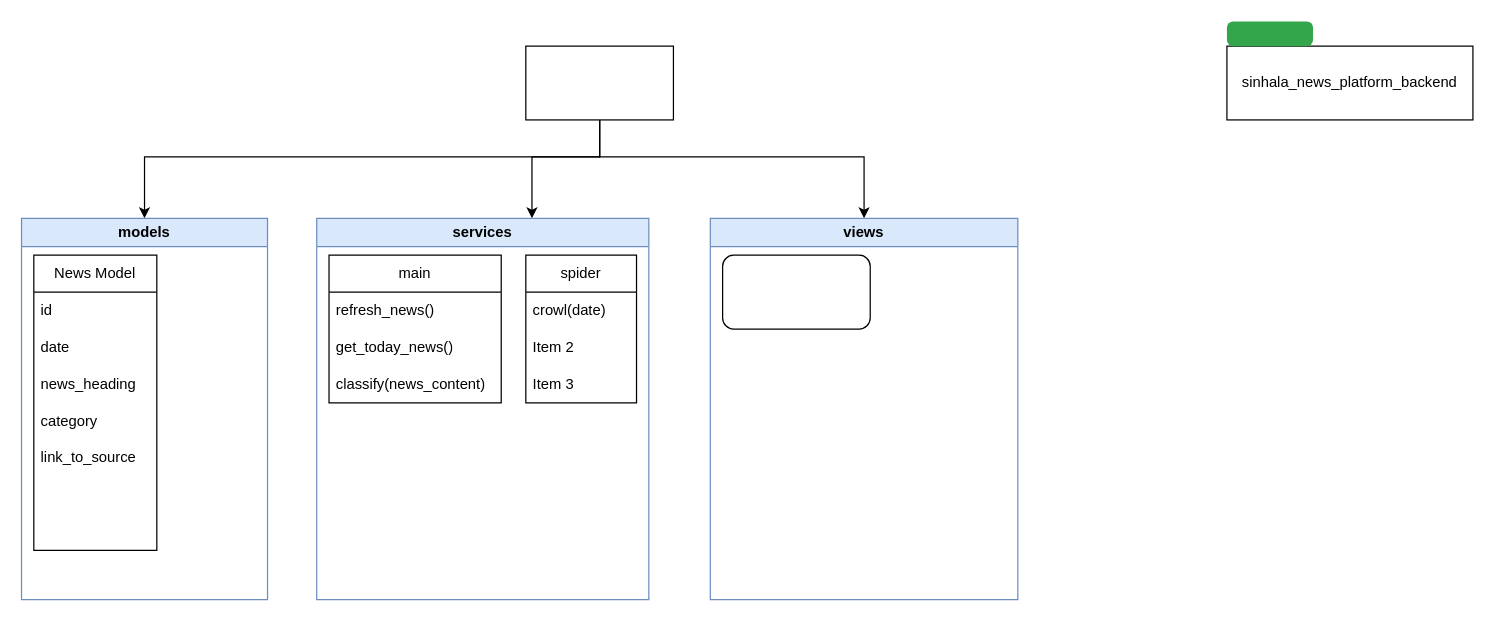
The diagram is 1494 pixels wide and 621 high, and some of its shapes have lost their labels. The centre of each missing label's shape, as x and y in pixels:
Main App: pixel 1269 33
news_app: pixel 599 82
todays_feed: pixel 795 291
